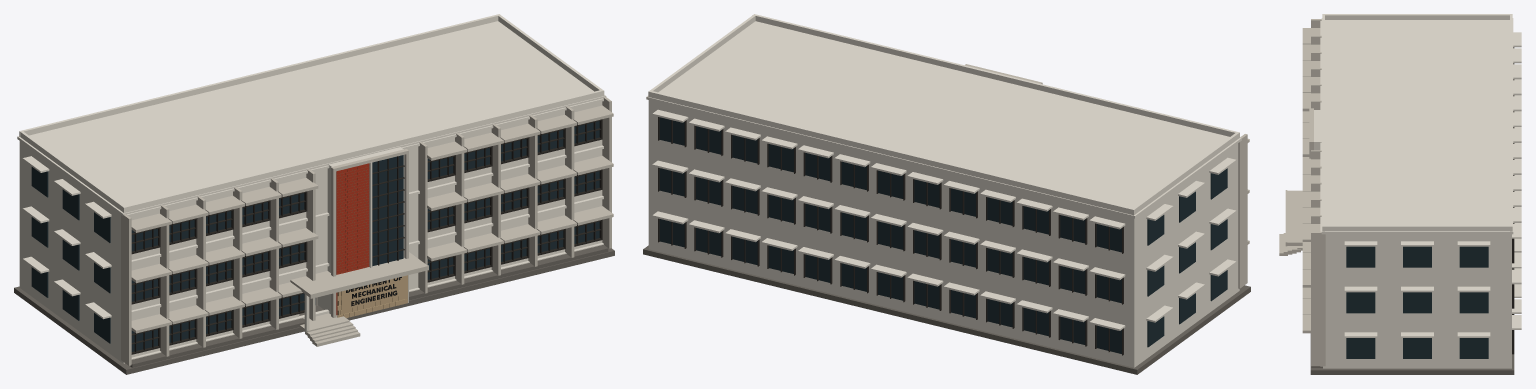
Rendered from Department_of_Mechanical_Engineering.glb.
3 views of the same model, side by side, from view 1: azimuth 30°, elevation 25°; view 2: azimuth 150°, elevation 25°; view 3: azimuth 270°, elevation 25° (orthographic). The views are drawn at different scales.
Parts seen in each view (by area): view 1: IIT Kharagpur Department of Mechanical Engineering; view 2: IIT Kharagpur Department of Mechanical Engineering; view 3: IIT Kharagpur Department of Mechanical Engineering.
Part boxes in pixels (x1,y1,x2,y2): IIT Kharagpur Department of Mechanical Engineering: [14, 14, 614, 374]; IIT Kharagpur Department of Mechanical Engineering: [643, 14, 1250, 374]; IIT Kharagpur Department of Mechanical Engineering: [1279, 14, 1521, 374].
Size of the model in its own units: 41.45 by 12.97 by 19.27.
